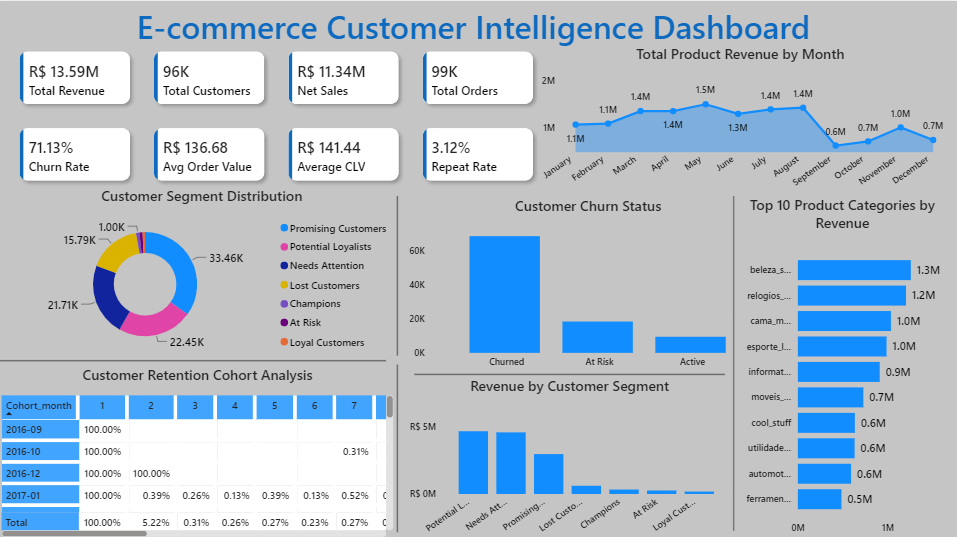

The page's visual inventory and layout, read from the dashboard file:
{"tool":"powerbi","page":{"name":"Report","canvas":[1280,720],"ordinal":0},"visuals":[{"type":"textbox","box":[179.7,0,1089.9,76.8],"z":0},{"type":"cardVisual","fields":{"Data":["powerbi_customer_dataset.Total Revenue","powerbi_customer_dataset.Total Customers","order_items.Net Sales","powerbi_customer_dataset.Total Orders","powerbi_customer_dataset.Churn Rate","powerbi_customer_dataset.Average Order Value","powerbi_customer_dataset.Average CLV","powerbi_customer_dataset.Repeat Customer Rate"]},"box":[0,39.1,742,231.9],"z":1000},{"type":"donutChart","title":"Customer Segment Distribution","fields":{"Category":["powerbi_customer_dataset.segment"],"Y":["CountNonNull(powerbi_customer_dataset.customer_unique_id)"]},"box":[11.6,246.4,520.3,226.1],"z":2000},{"type":"clusteredColumnChart","title":"Customer Churn Status","fields":{"Category":["powerbi_customer_dataset.churn_status"],"Y":["CountNonNull(powerbi_customer_dataset.customer_unique_id)"]},"box":[543.5,259.4,487,239.1],"z":3000},{"type":"shape","box":[471,259.4,121.7,213],"z":4000},{"type":"shape","box":[0,359.4,517.4,239.1],"z":5000},{"type":"pivotTable","title":"Customer Retention Cohort Analysis","fields":{"Columns":["retention_cohort_analysis.cohort_index"],"Values":["Avg(retention_cohort_analysis.retention_rate)"],"Rows":["retention_cohort_analysis.cohort_month_label"]},"box":[0,485.5,531.9,234.8],"z":6000},{"type":"clusteredColumnChart","title":"Revenue by Customer Segment","fields":{"Category":["powerbi_customer_dataset.segment"],"Y":["powerbi_customer_dataset.Total Revenue"]},"box":[543.5,500,437.7,220.3],"z":7000},{"type":"shape","box":[471,485.5,121.7,223.2],"z":8000},{"type":"clusteredBarChart","title":"Top 10 Product Categories by Revenue","fields":{"Category":["products.product_category_name"],"Y":["Sum(order_items.price)"]},"box":[981.2,258,288.4,462.3],"z":9000},{"type":"shape","box":[920.3,259.4,121.7,446.4],"z":10000},{"type":"lineChart","fields":{"Category":["orders.order_purchase_timestamp.Variation.Date Hierarchy.Month"],"Y":["order_items.Total Product Revenue"]},"box":[710.1,56.5,559.4,202.9],"z":11000},{"type":"shape","box":[555.1,378.3,414.5,239.1],"z":12000}]}

Visuals, with their boxes in screenshot pixels (x1, y1, x2, y2), scaled from the page's 1280x720 canvas onto the 957x537 screenshot:
textbox: (x1=134, y1=0, x2=949, y2=57)
cardVisual - powerbi_customer_dataset.Total Revenue x powerbi_customer_dataset.Total Customers: (x1=0, y1=29, x2=555, y2=202)
"Customer Segment Distribution" donutChart: (x1=9, y1=184, x2=398, y2=352)
"Customer Churn Status" clusteredColumnChart: (x1=406, y1=193, x2=770, y2=372)
shape: (x1=352, y1=193, x2=443, y2=352)
shape: (x1=0, y1=268, x2=387, y2=446)
"Customer Retention Cohort Analysis" pivotTable: (x1=0, y1=362, x2=398, y2=536)
"Revenue by Customer Segment" clusteredColumnChart: (x1=406, y1=373, x2=734, y2=536)
shape: (x1=352, y1=362, x2=443, y2=529)
"Top 10 Product Categories by Revenue" clusteredBarChart: (x1=734, y1=192, x2=949, y2=536)
shape: (x1=688, y1=193, x2=779, y2=526)
lineChart - orders.order_purchase_timestamp.Variation.Date Hierarchy.Month x order_items.Total Product Revenue: (x1=531, y1=42, x2=949, y2=193)
shape: (x1=415, y1=282, x2=725, y2=460)
